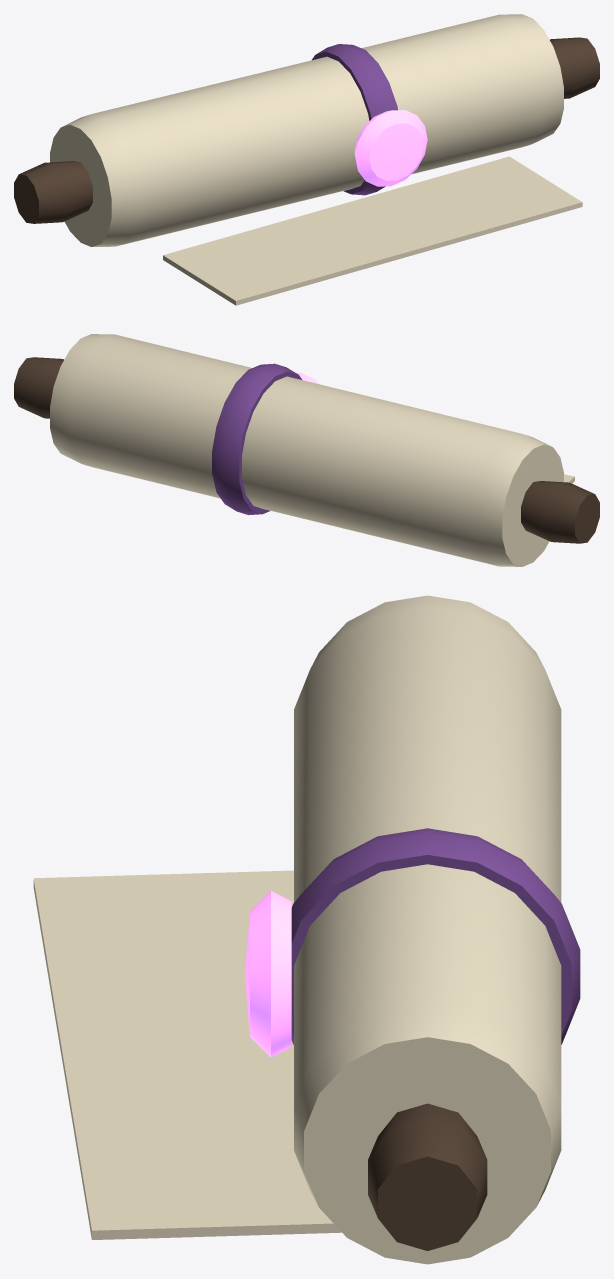
The model's file is recipe_sage.glb.
The picture shows the model from 3 angles, top to bottom: view 1: azimuth 30°, elevation 25°; view 2: azimuth 150°, elevation 25°; view 3: azimuth 270°, elevation 25°; orthographic projection. The views are drawn at different scales.
Parts seen in each view (by area): view 1: recipe_sage; view 2: recipe_sage; view 3: recipe_sage.
Part boxes in pixels (bbox=[...]): recipe_sage: bbox=[14, 14, 599, 305]; recipe_sage: bbox=[14, 334, 599, 566]; recipe_sage: bbox=[33, 595, 580, 1264].
Size of the model in its own units: 0.248 by 0.0594 by 0.1046.
